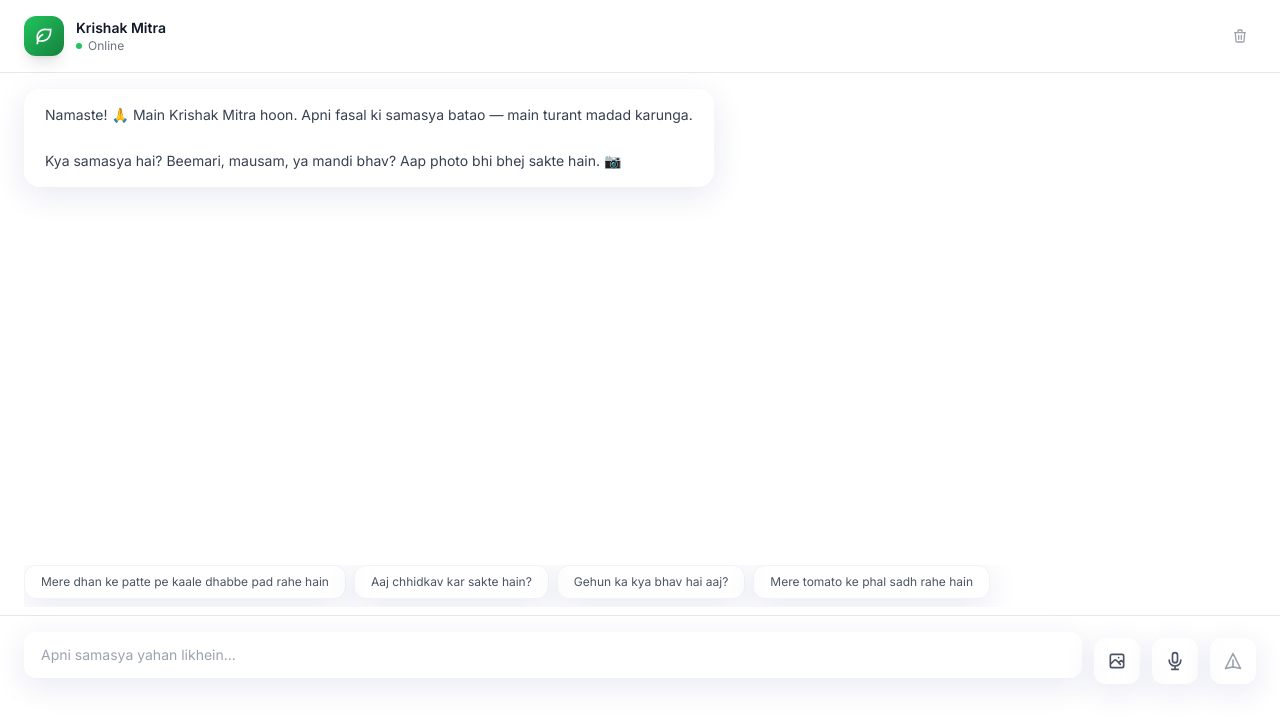
Test: DemoChat imperative handle › send button becomes enabled once text is typed
Type "Test message" into the text box with placeholder "Apni samasya yahan likhein..." at (553,655), box x1=24 y1=632 x2=1082 y2=678
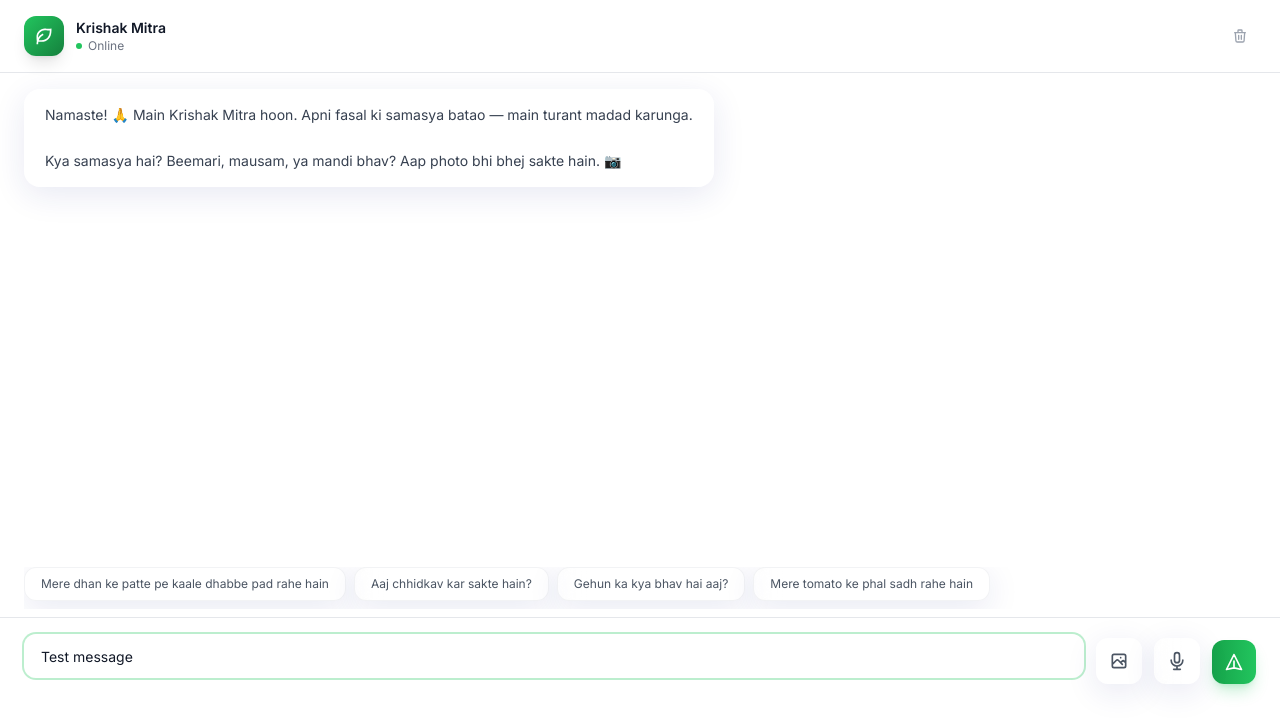
Expected: the button named "send message" is enabled, x1=1212 y1=640 x2=1256 y2=684
